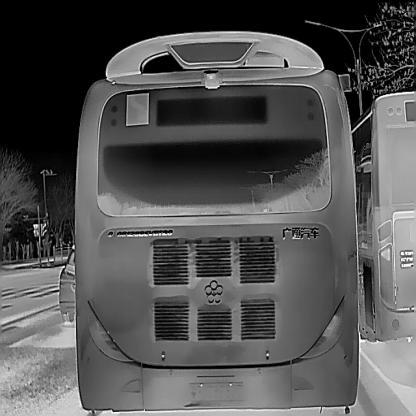car: (73, 25, 359, 411), (351, 90, 416, 343), (58, 243, 76, 322)
